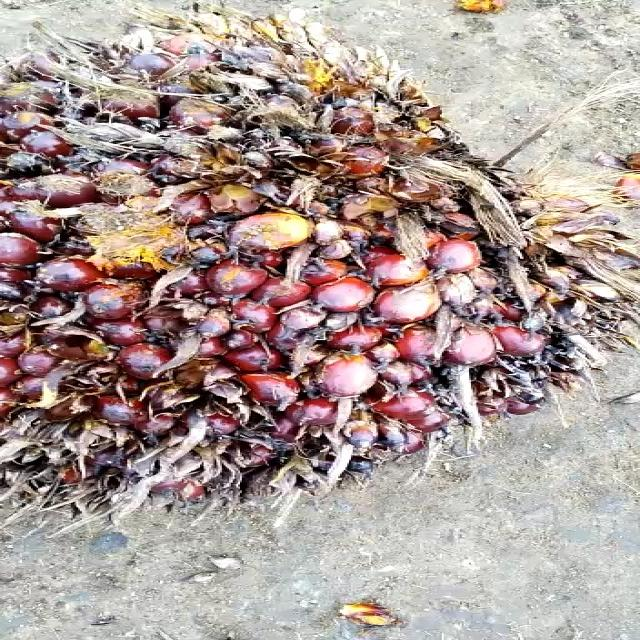palm oil: (0, 29, 604, 531)
